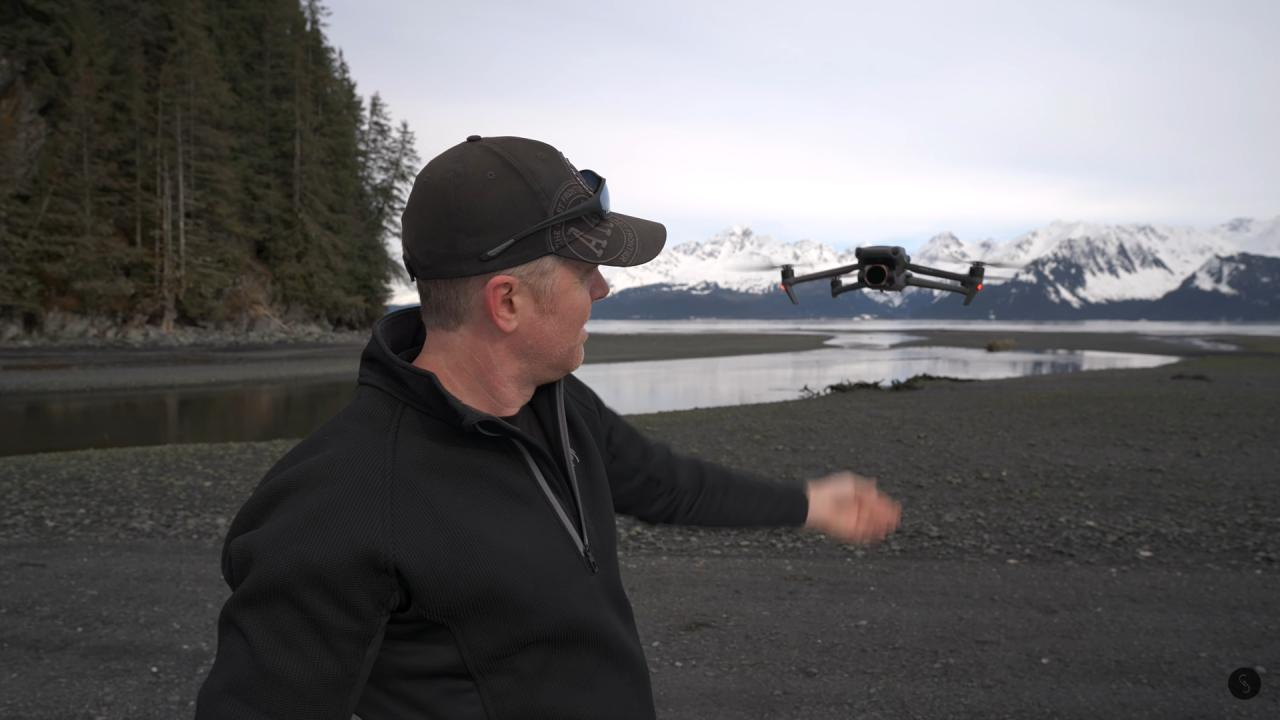Drone: (720, 228, 1038, 318)
